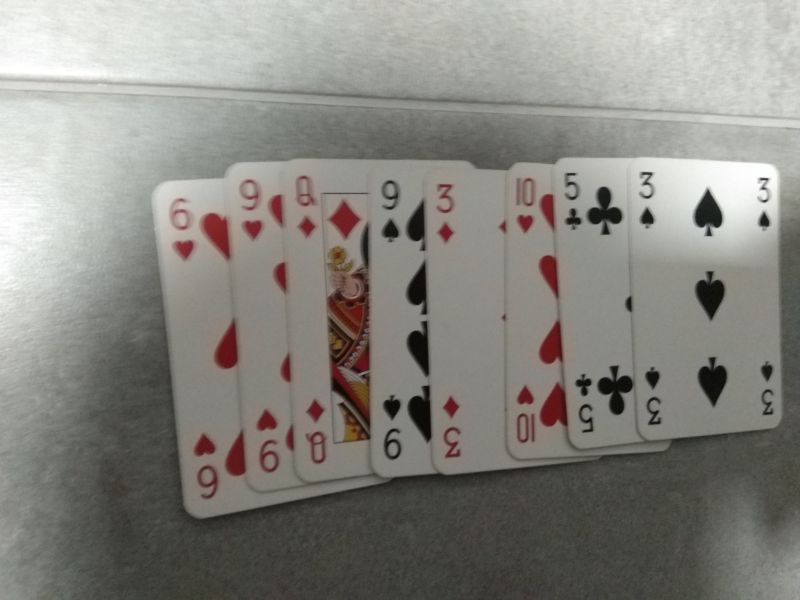3d: (430, 177, 458, 248), (440, 392, 467, 463)
3s: (640, 364, 667, 429), (633, 167, 659, 232), (754, 358, 780, 421), (753, 174, 774, 232)
5c: (572, 369, 595, 438), (562, 168, 585, 233)
6h: (165, 191, 200, 266), (190, 427, 222, 505)
9h: (253, 401, 283, 478), (236, 174, 267, 243)
9s: (378, 390, 406, 466), (376, 175, 404, 247)
Qd: (301, 393, 333, 468), (292, 170, 323, 242)
Th: (513, 380, 540, 447), (514, 173, 538, 237)
